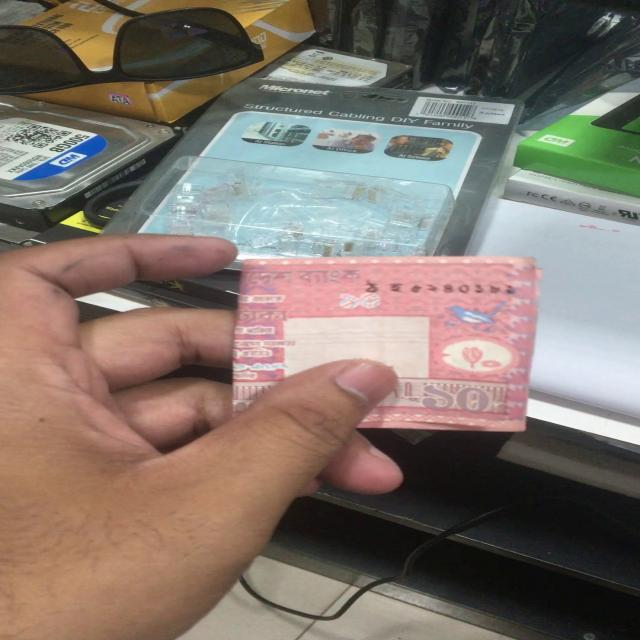Taka: (240, 261, 524, 430)
